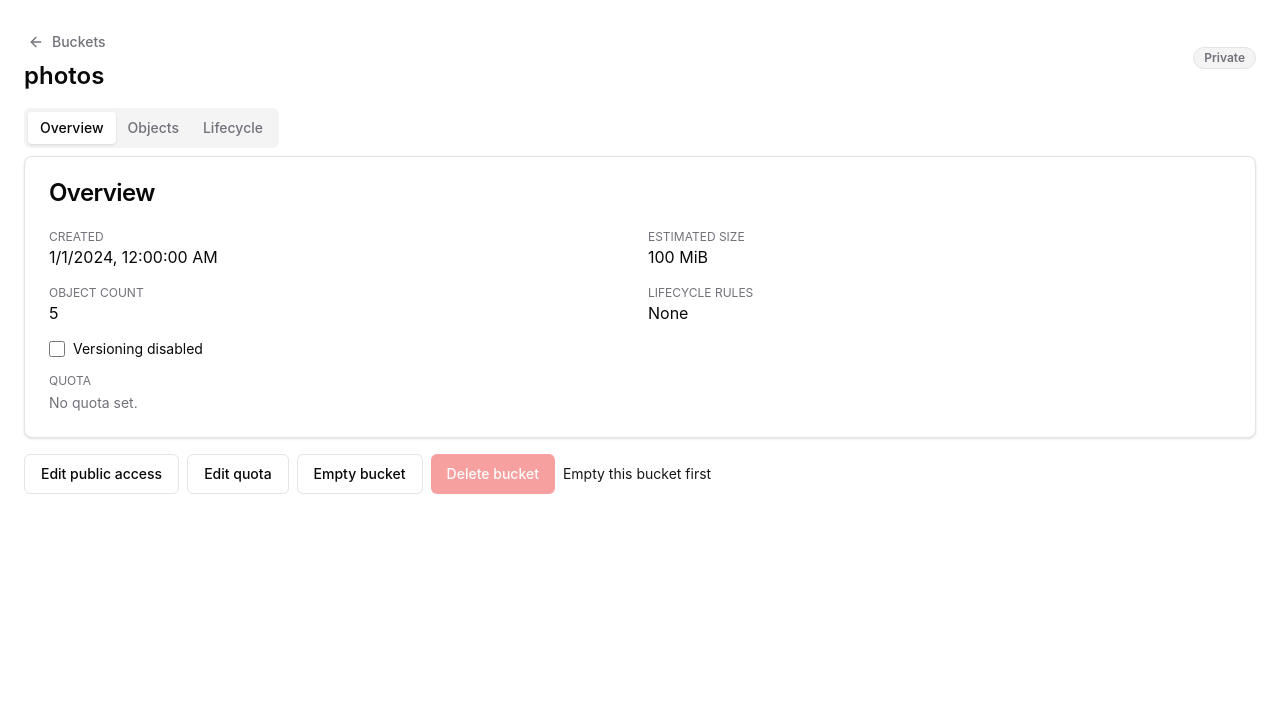
Test: BucketDetailPage › opens the public access dialog from the Edit public access button
Expected: the heading "photos" is shown, x1=24 y1=60 x2=118 y2=92
Click the button "Edit public access" at (102, 474), box x1=24 y1=454 x2=179 y2=494
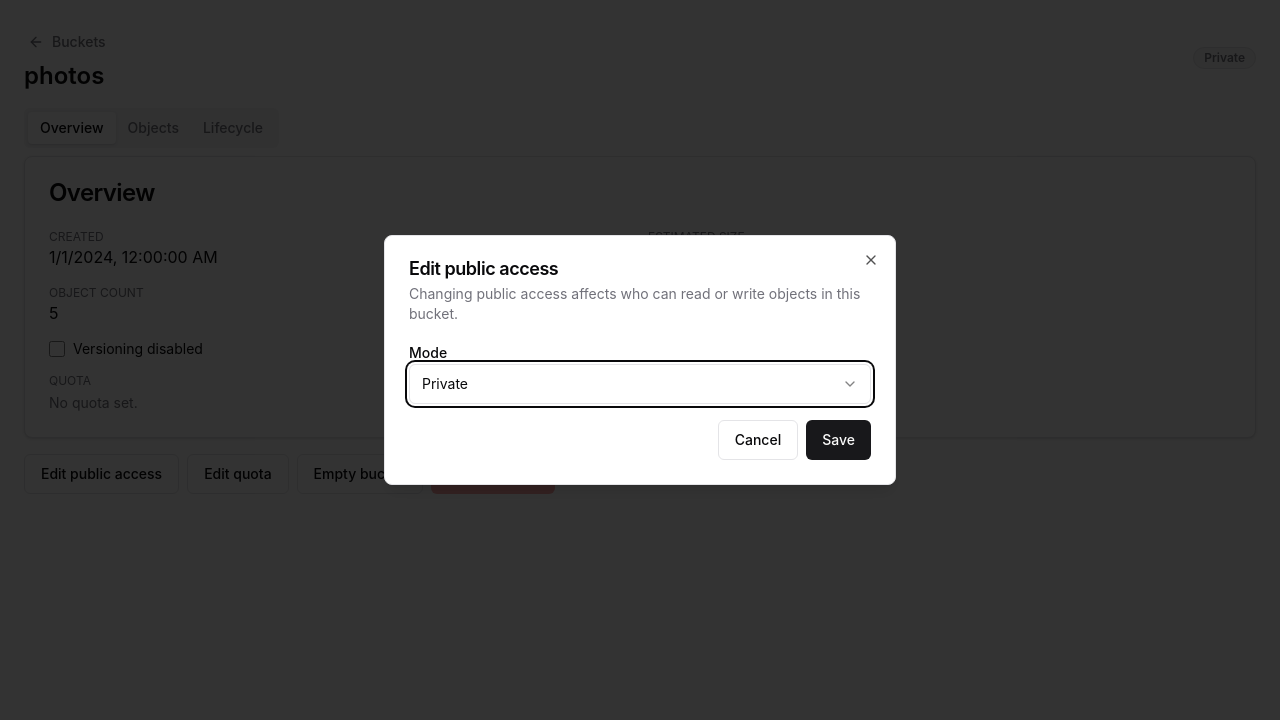
Now the dialog is shown, box x1=384 y1=235 x2=896 y2=485
Now the button "Save" is enabled, box x1=806 y1=420 x2=871 y2=460
